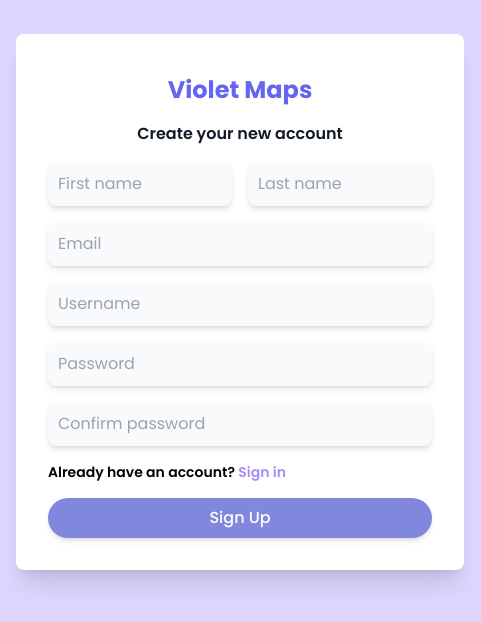
Test case: register tests › improper password input - passwords do not match
In the field with id "firstName": point(140, 184) top-left (48, 162), bottom-right (232, 206), type "Joe"
In the field with id "lastName": point(340, 184) top-left (248, 162), bottom-right (432, 206), type "Shmoe"
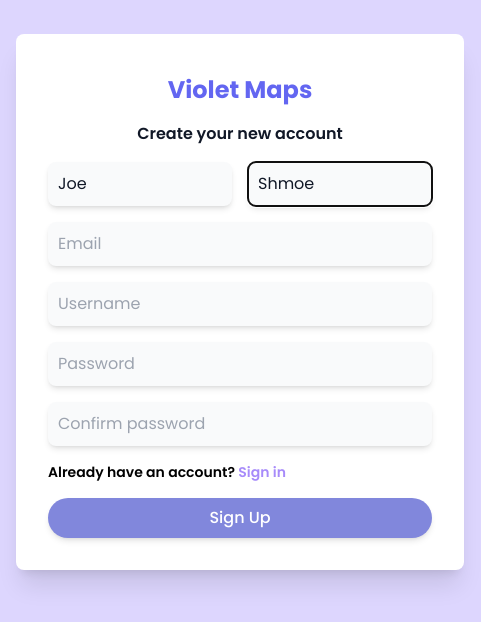
In the field with id "email": point(240, 244) top-left (48, 222), bottom-right (432, 266), type "Joe.Shmoe@email.com"
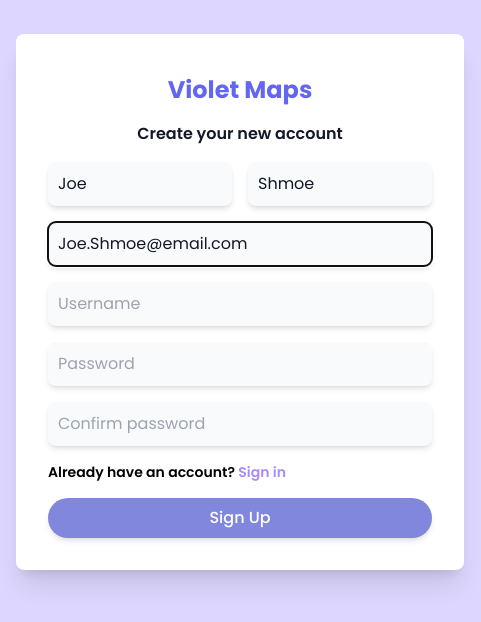
In the field with id "username": point(240, 304) top-left (48, 282), bottom-right (432, 326), type "JoeShmoe-inator"
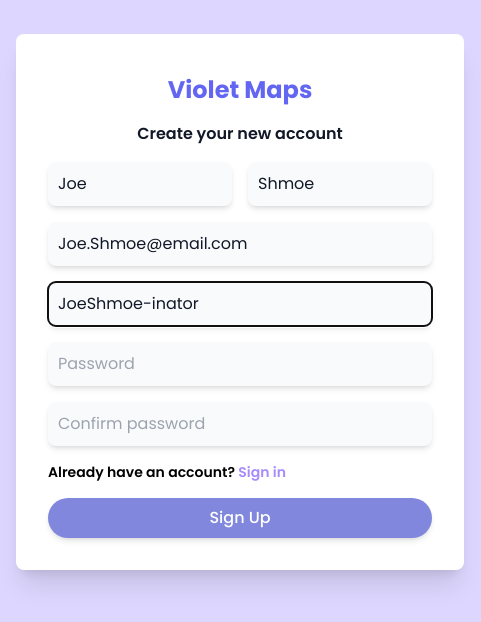
In the password field with placeholder "Password": point(240, 364) top-left (48, 342), bottom-right (432, 386), type "JoeShmoe2023"
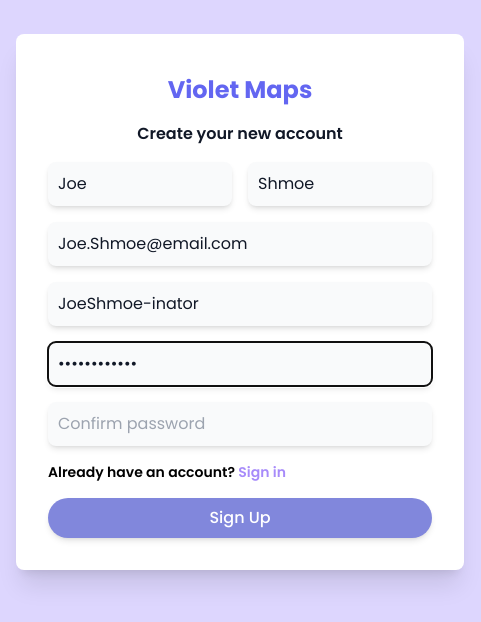
In the password field with id "confirmPassword": point(240, 424) top-left (48, 402), bottom-right (432, 446), type "wrongpassword"
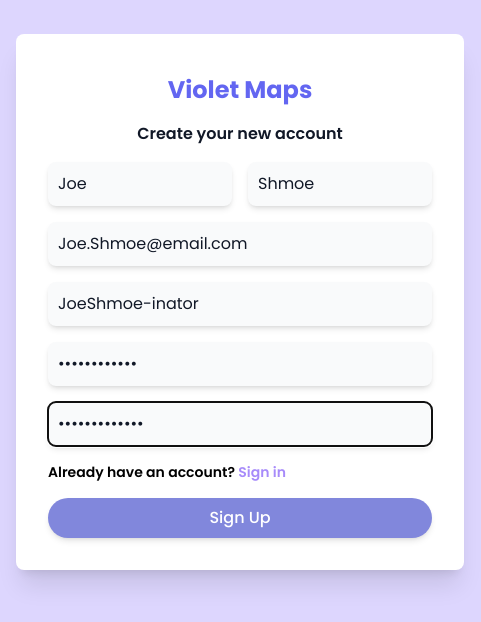
Click the button with id "registerButton": point(240, 518) top-left (48, 498), bottom-right (432, 538)
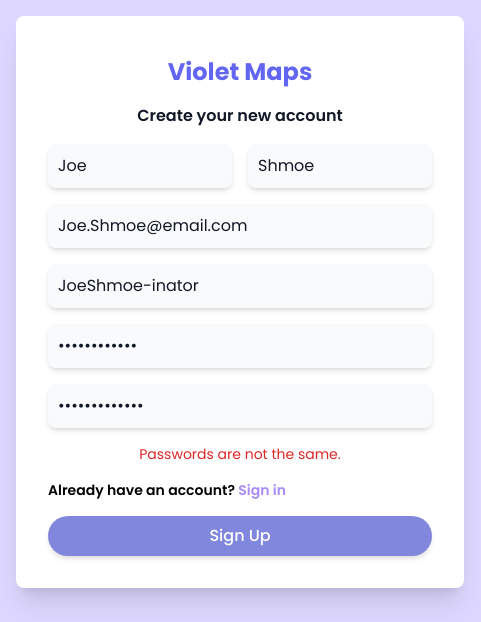
Expected: the text "Passwords are not the same." is shown, top-left (139, 444), bottom-right (341, 464)
